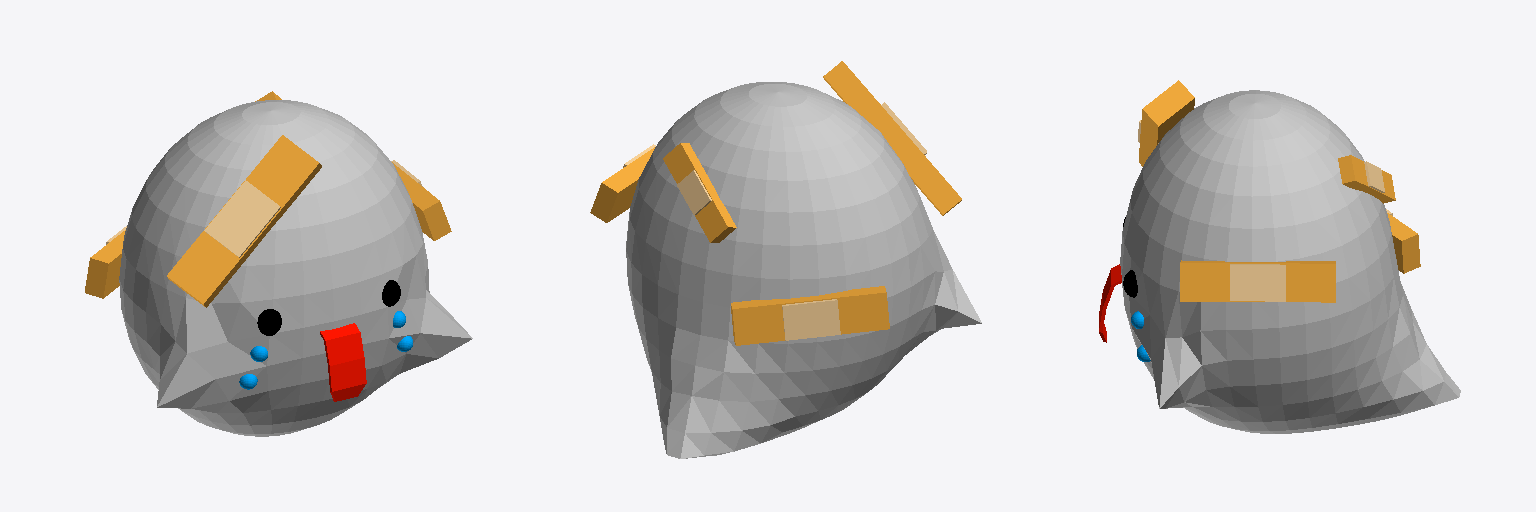
The picture shows the model from 3 angles: view 1: azimuth 30°, elevation 25°; view 2: azimuth 150°, elevation 25°; view 3: azimuth 270°, elevation 25°; orthographic projection.
Parts seen in each view (by area): view 1: BigDamageEnemy.002, BigDamageEnemy.007, BigDamageEnemy.006, BigDamageEnemy.001, BigDamageEnemy.011, BigDamageEnemy.009, BigDamageEnemy.005; view 2: BigDamageEnemy.002, BigDamageEnemy.011, BigDamageEnemy.007, BigDamageEnemy, BigDamageEnemy.010, BigDamageEnemy.009, BigDamageEnemy.012; view 3: BigDamageEnemy.002, BigDamageEnemy.009, BigDamageEnemy.007, BigDamageEnemy.008, BigDamageEnemy, BigDamageEnemy.011, BigDamageEnemy.001.
Boxes of the visible parts, <box> form: BigDamageEnemy.002: <box>119,100,472,436</box>; BigDamageEnemy.007: <box>167,135,321,307</box>; BigDamageEnemy.006: <box>204,180,280,257</box>; BigDamageEnemy.001: <box>320,323,366,401</box>; BigDamageEnemy.011: <box>85,230,125,298</box>; BigDamageEnemy.009: <box>392,162,451,240</box>; BigDamageEnemy.005: <box>239,311,412,389</box>; BigDamageEnemy.002: <box>626,82,981,458</box>; BigDamageEnemy.011: <box>731,286,889,345</box>; BigDamageEnemy.007: <box>823,61,961,215</box>; BigDamageEnemy: <box>663,143,736,242</box>; BigDamageEnemy.010: <box>782,299,840,340</box>; BigDamageEnemy.009: <box>590,147,654,222</box>; BigDamageEnemy.012: <box>677,170,711,214</box>; BigDamageEnemy.002: <box>1120,90,1460,433</box>; BigDamageEnemy.009: <box>1180,260,1335,302</box>; BigDamageEnemy.007: <box>1139,80,1194,166</box>; BigDamageEnemy.008: <box>1230,264,1285,301</box>; BigDamageEnemy: <box>1338,155,1395,203</box>; BigDamageEnemy.011: <box>1387,213,1420,273</box>; BigDamageEnemy.001: <box>1099,264,1121,342</box>.
Size of the model in its own units: 2 by 2 by 2.
Materials: 13 (5 with a texture image).